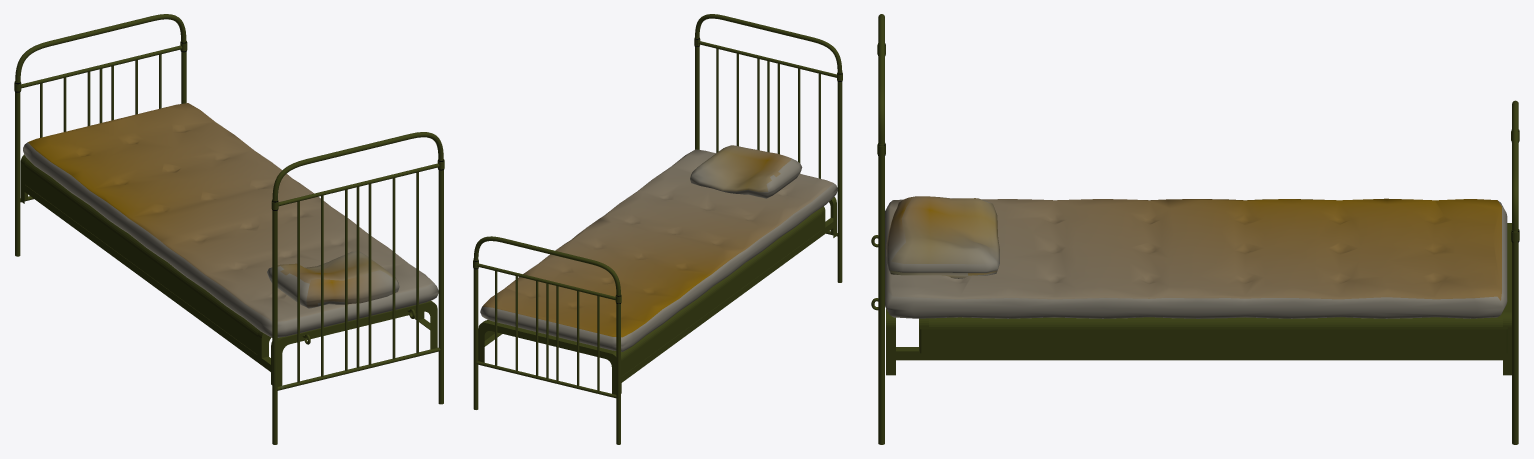
The model's file is bed.fbx.
3 renders of one model, left to right at view 1: azimuth 30°, elevation 25°; view 2: azimuth 150°, elevation 25°; view 3: azimuth 270°, elevation 25°, orthographic. The views are drawn at different scales.
Parts seen in each view (by area): view 1: Bed; view 2: Bed; view 3: Bed.
Boxes of the visible parts, x1=… form: Bed: x1=14, y1=14, x2=444, y2=444; Bed: x1=473, y1=14, x2=842, y2=444; Bed: x1=871, y1=14, x2=1519, y2=444.
Size of the model in its own units: 0.7417 by 1.14 by 1.97.
